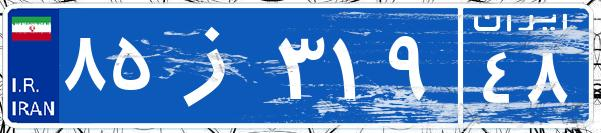1: (330, 28, 385, 110)
3: (273, 28, 330, 110)
4: (475, 38, 525, 113)
5: (110, 28, 158, 105)
8: (57, 26, 110, 107), (525, 38, 570, 115)
9: (385, 28, 445, 110)
ز: (158, 15, 273, 115)
